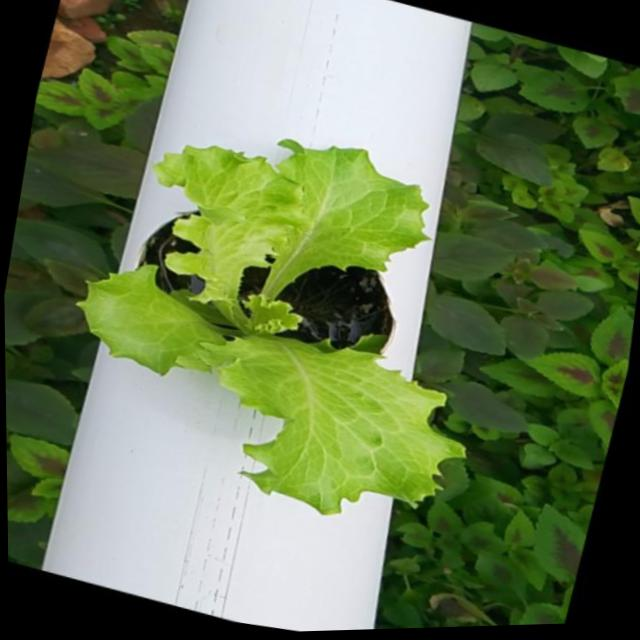Baby: (73, 138, 460, 513)
